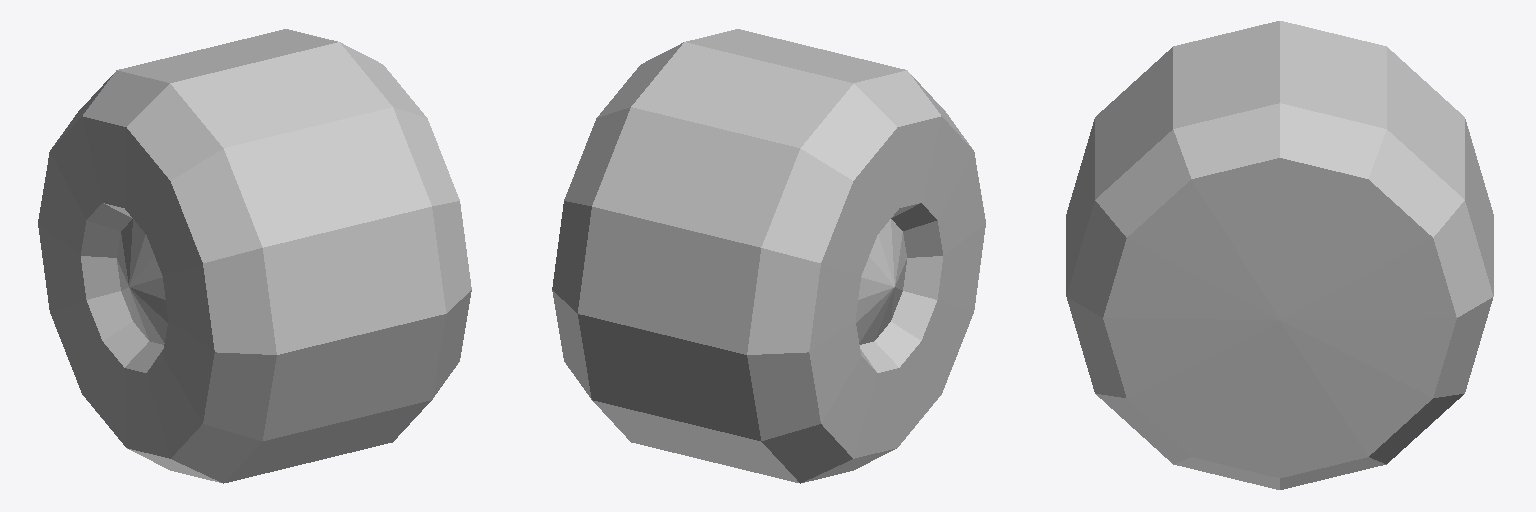
The model's file is spacetruck_large_wheel_rear_right.obj.
The picture shows the model from 3 angles: view 1: azimuth 30°, elevation 25°; view 2: azimuth 150°, elevation 25°; view 3: azimuth 270°, elevation 25°; orthographic projection.
Visible parts, largest first — view 1: spacetruck_large_wheel_rear_right_Cylinder.2694; view 2: spacetruck_large_wheel_rear_right_Cylinder.2694; view 3: spacetruck_large_wheel_rear_right_Cylinder.2694.
Boxes of the visible parts, box(x1,y1,x2,y2) form: spacetruck_large_wheel_rear_right_Cylinder.2694: box(38, 29, 471, 483); spacetruck_large_wheel_rear_right_Cylinder.2694: box(552, 29, 985, 483); spacetruck_large_wheel_rear_right_Cylinder.2694: box(1066, 21, 1493, 489).
Size of the model in its own units: 0.162 by 0.228 by 0.228.